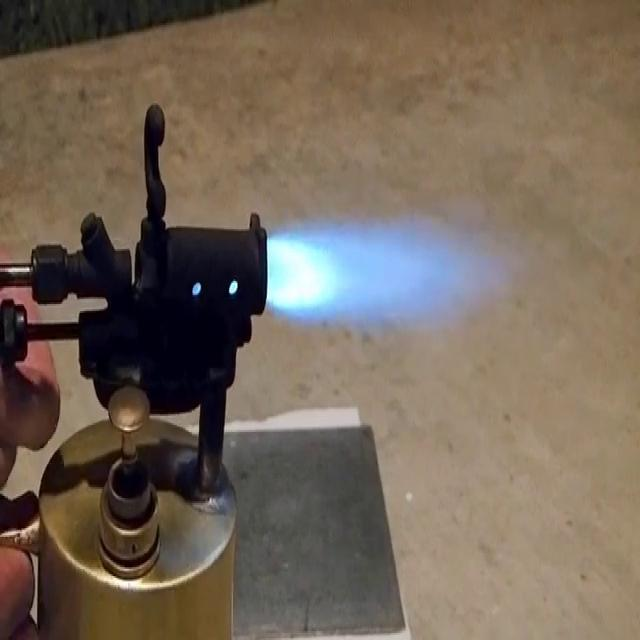fire: (258, 178, 542, 338)
